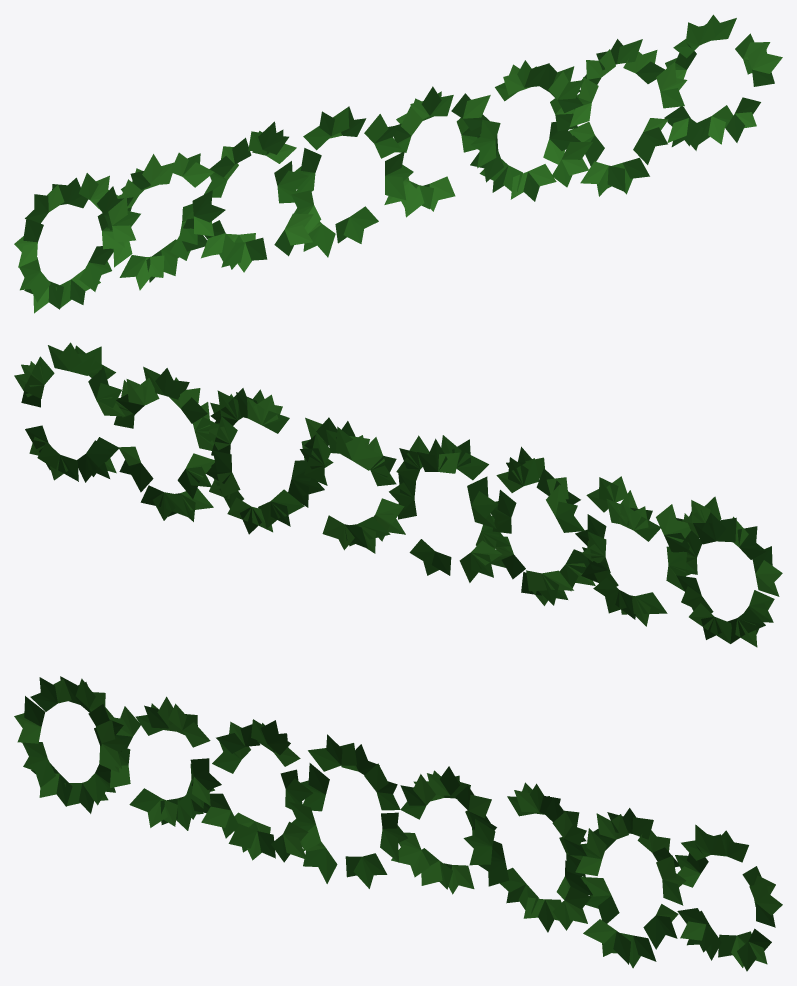
3 views of the same model, one above another, from view 1: azimuth 30°, elevation 25°; view 2: azimuth 150°, elevation 25°; view 3: azimuth 330°, elevation 25° (orthographic).
Visible parts, largest first — view 1: r28c3_l00; view 2: r28c3_l00; view 3: r28c3_l00.
Part boxes in pixels (box(x1,y1,x2,y2)): r28c3_l00: box(14, 14, 782, 313); r28c3_l00: box(14, 342, 782, 647); r28c3_l00: box(14, 676, 782, 971).
Bounding box in the file's own units: 2.07 × 0.413 × 0.0763.
